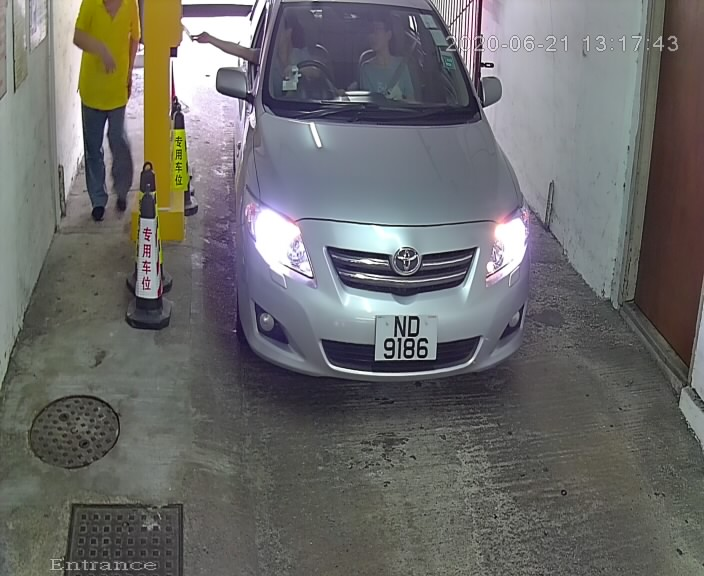privatecar: (200, 1, 548, 404)
